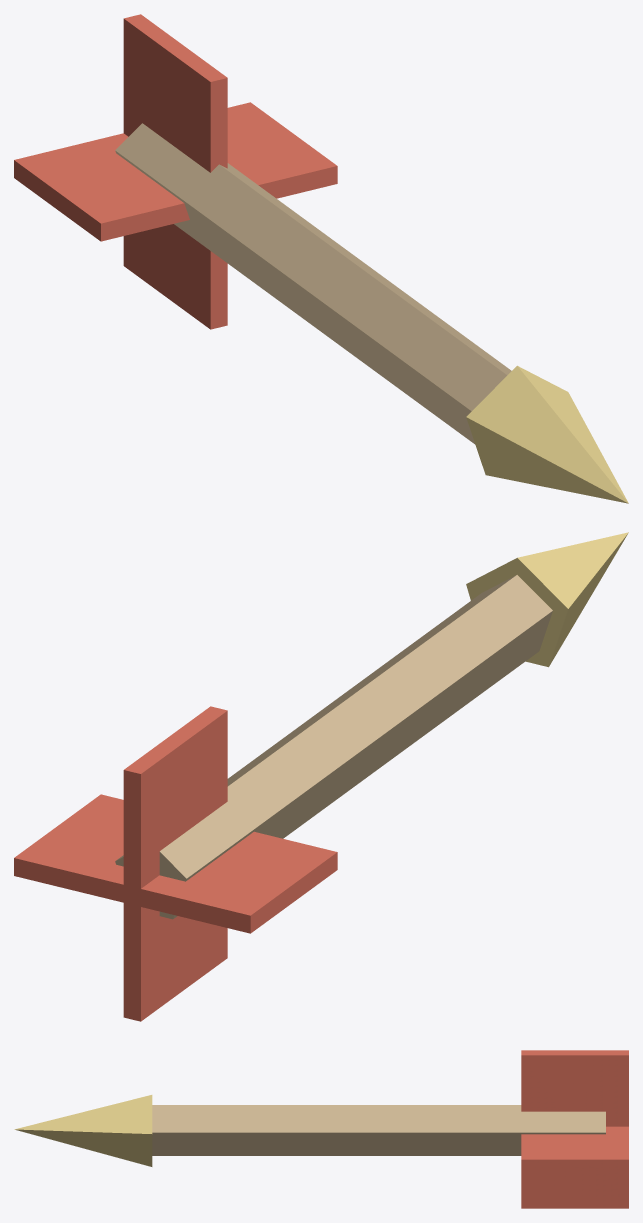
Rendered from Dart.fbx.
3 renders of one model, top to bottom at view 1: azimuth 30°, elevation 25°; view 2: azimuth 150°, elevation 25°; view 3: azimuth 270°, elevation 25°, orthographic. The views are drawn at different scales.
Parts seen in each view (by area): view 1: Dart; view 2: Dart; view 3: Dart.
Part boxes in pixels (x1=…): Dart: x1=14, y1=14, x2=628, y2=503; Dart: x1=14, y1=532, x2=628, y2=1021; Dart: x1=14, y1=1050, x2=628, y2=1208.
Bounding box in the file's own units: 0.11 × 0.11 × 0.4.
